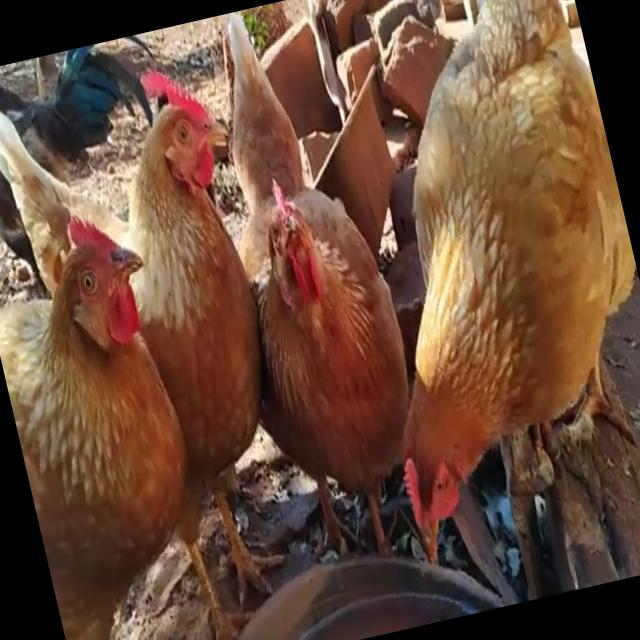drinking: (273, 0, 640, 610)
